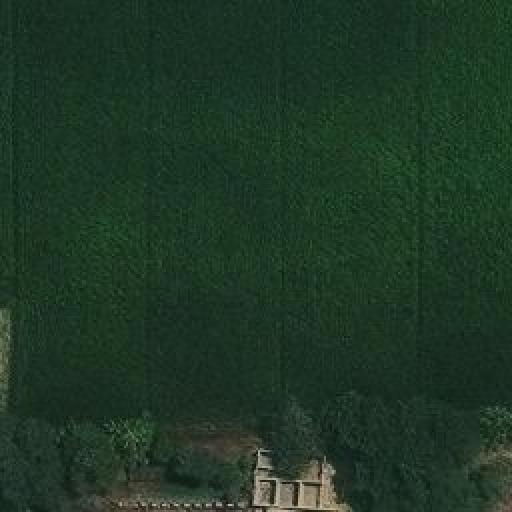manzanas: (253, 447, 339, 510)
